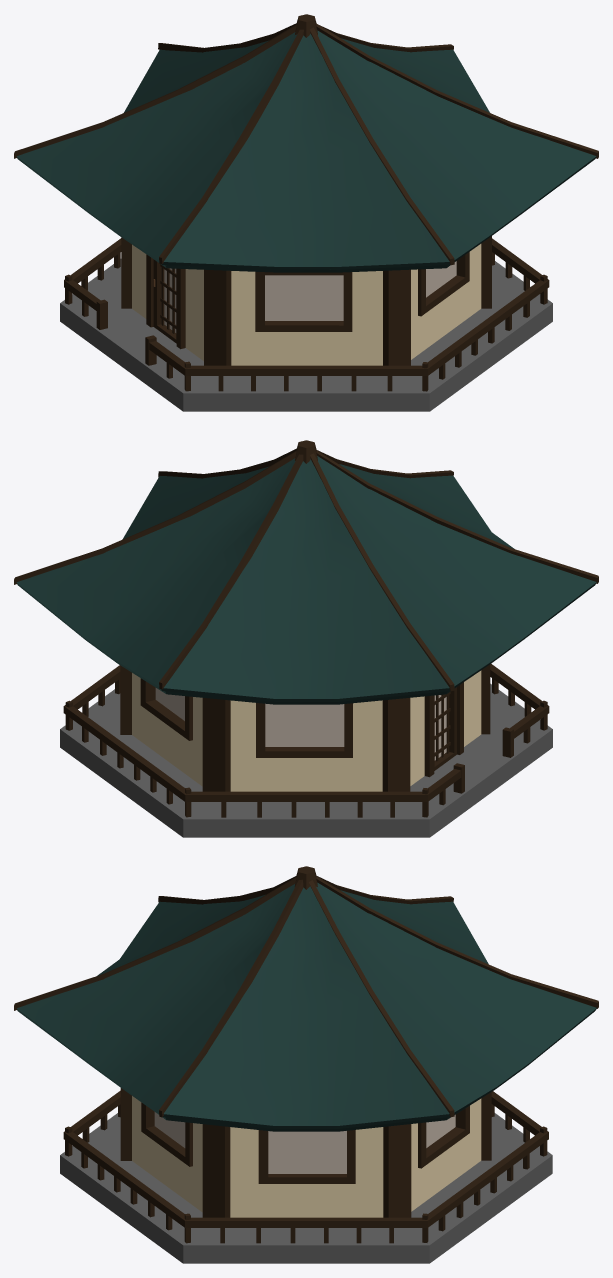
The model's file is houme014_2.fbx.
3 views of the same model, one above another, from view 1: azimuth 30°, elevation 25°; view 2: azimuth 150°, elevation 25°; view 3: azimuth 270°, elevation 25° (orthographic).
Parts seen in each view (by area): view 1: houme014_2; view 2: houme014_2; view 3: houme014_2.
Boxes of the visible parts, <box> form: houme014_2: <box>14,14,598,411</box>; houme014_2: <box>14,440,598,837</box>; houme014_2: <box>14,866,598,1263</box>.
Bounding box in the file's own units: 1193 × 790 × 1371.
